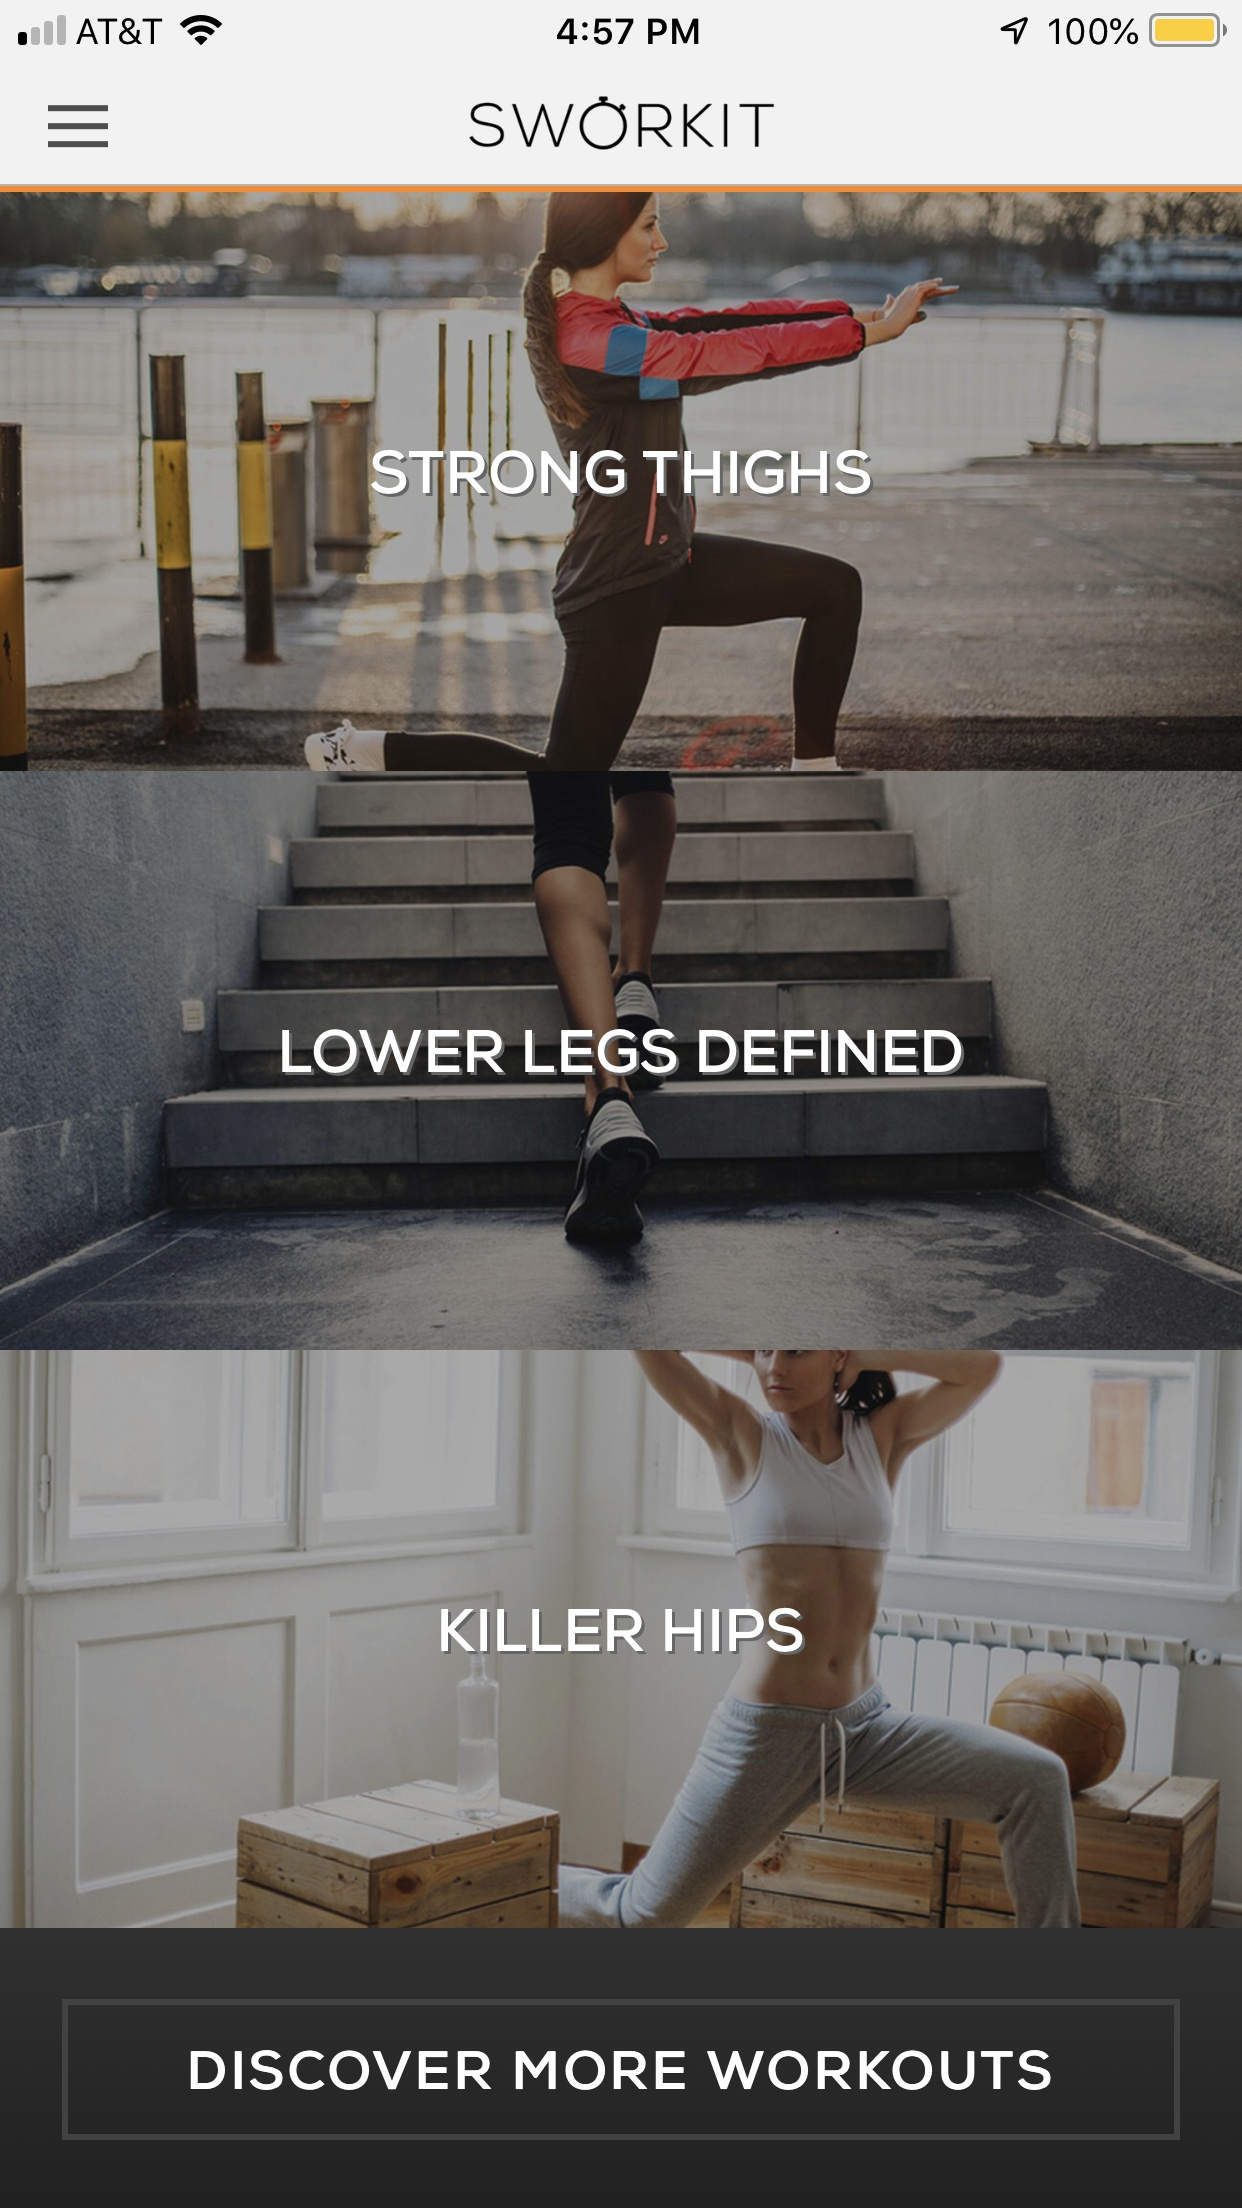Icon: (49, 105, 111, 150)
Image: (2, 185, 1242, 772), (2, 772, 1242, 1350), (2, 1350, 1242, 1927), (469, 96, 775, 152)
Text: (282, 1030, 964, 1078), (370, 449, 873, 497), (440, 1607, 807, 1654)
TextButton: (62, 1997, 1181, 2141)
UpperTaskBar: (2, 2, 1242, 49)
